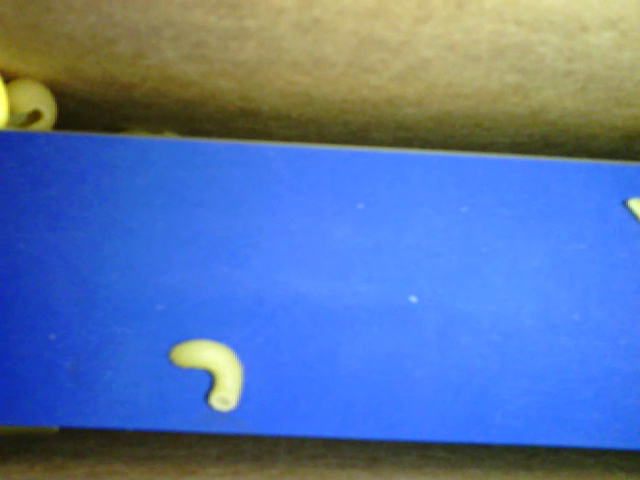elbow: (172, 333, 247, 412)
shell: (5, 75, 66, 134)
